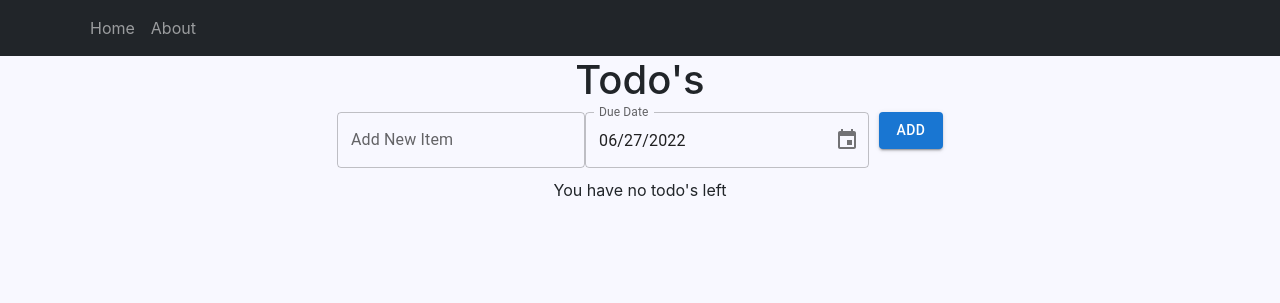
Test: tests that App component can be deleted thru checkbox
Type "History Test" into the field labelled "Add New Item" at (461, 140), box [337,112,585,168]
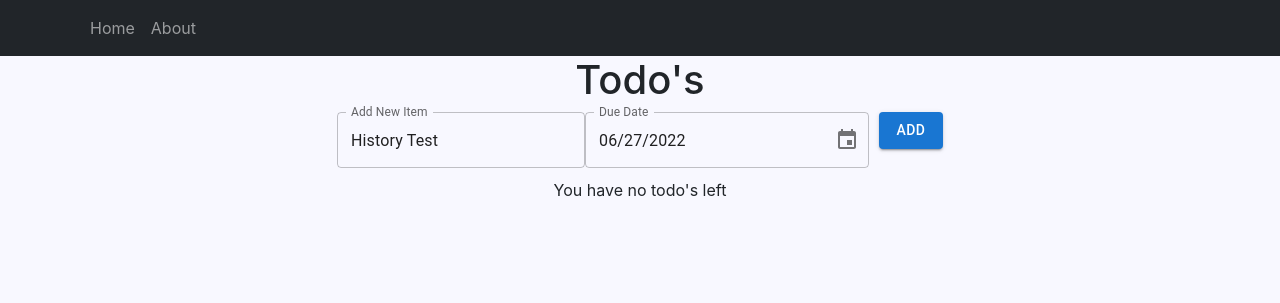
Replace the text in the field with placeholder "mm/dd/yyyy" with "05/30/2023" at (702, 140), box [585,112,819,168]
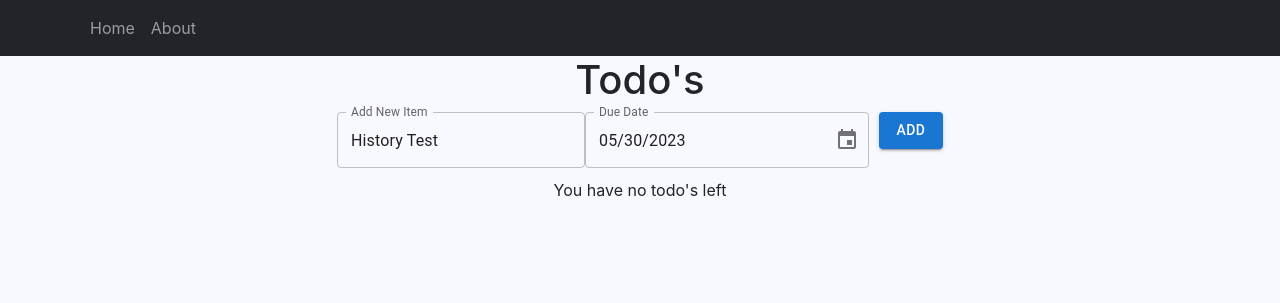
Click the button "Add" at (911, 130), box [879,112,943,148]
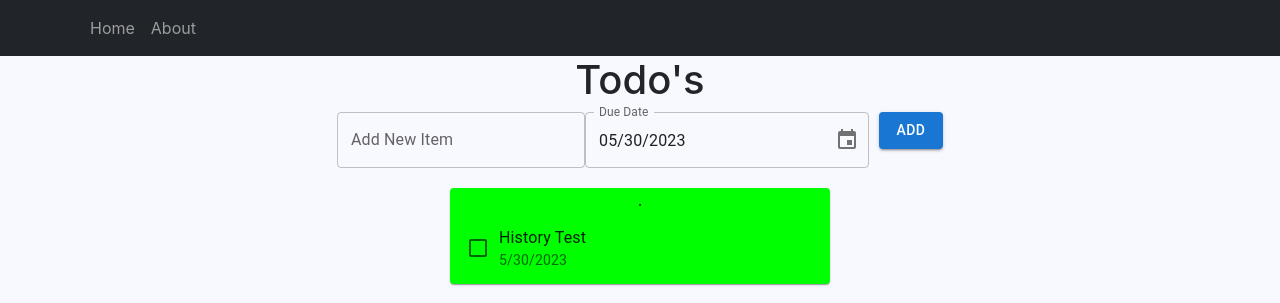
Click the checkbox at (478, 248), box [466,236,490,260]
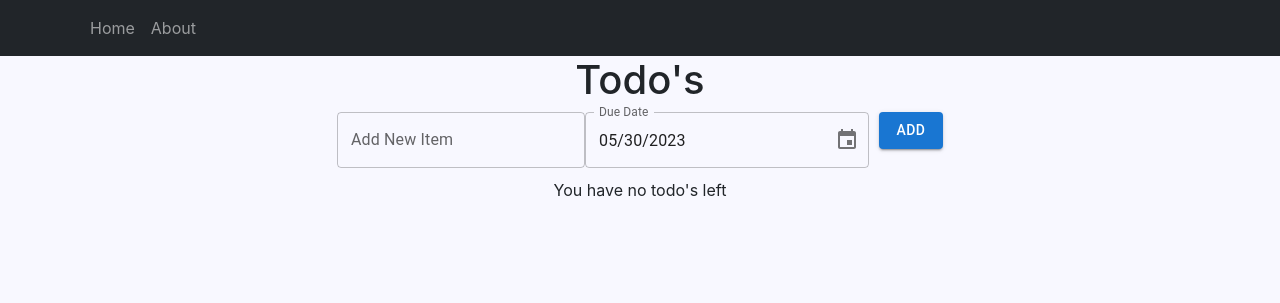
Result: the text "You have no todo's left" is shown at [554,180,726,200]
